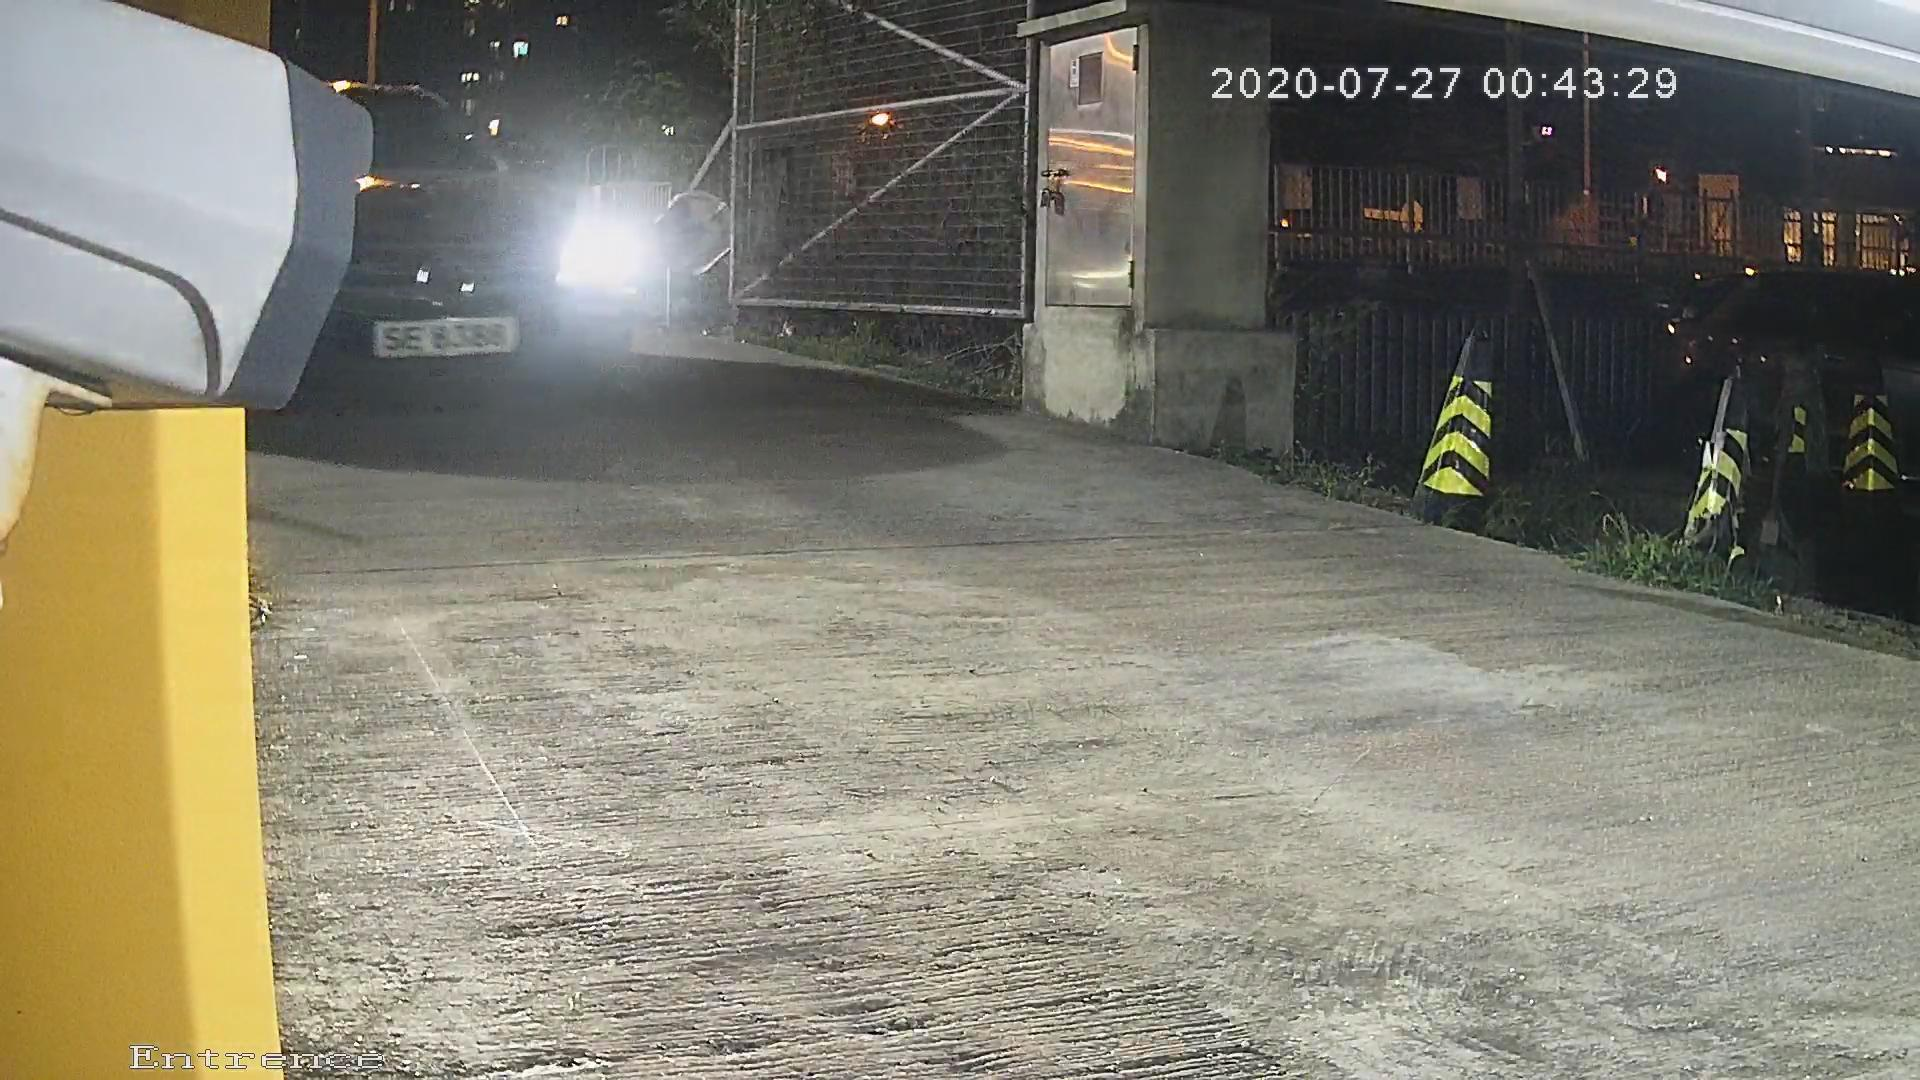License Plate: (352, 275, 532, 372)
